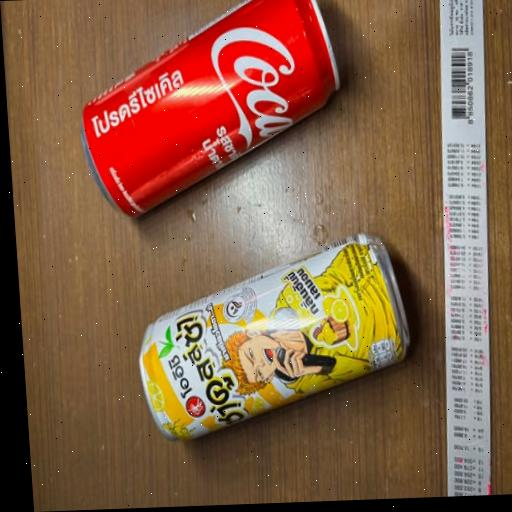canned: (125, 216, 436, 453), (60, 0, 356, 233)
